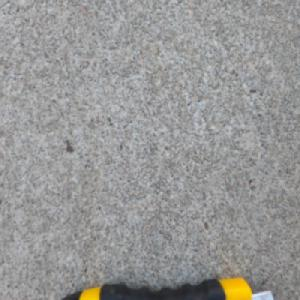Cutter: (62, 276, 275, 300)
